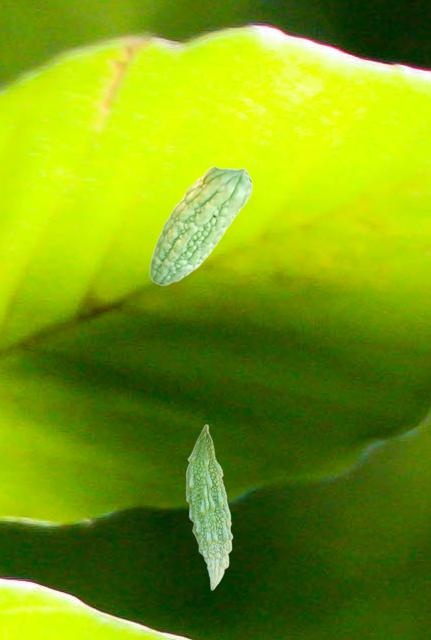ampalaya: (148, 165, 253, 286), (185, 424, 233, 591)
